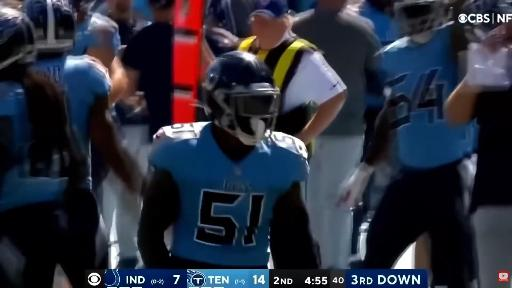Helmet: (203, 51, 281, 145), (25, 0, 75, 53), (0, 6, 35, 69), (394, 0, 448, 36), (463, 0, 511, 14), (70, 0, 104, 12)
Jersey: (149, 123, 308, 266), (380, 26, 472, 168), (35, 55, 111, 189), (0, 82, 67, 211), (71, 13, 120, 55), (359, 2, 401, 46), (359, 2, 401, 45)
Player: (138, 52, 319, 268), (343, 0, 473, 287), (0, 6, 95, 287), (26, 0, 142, 197), (70, 0, 127, 103)
